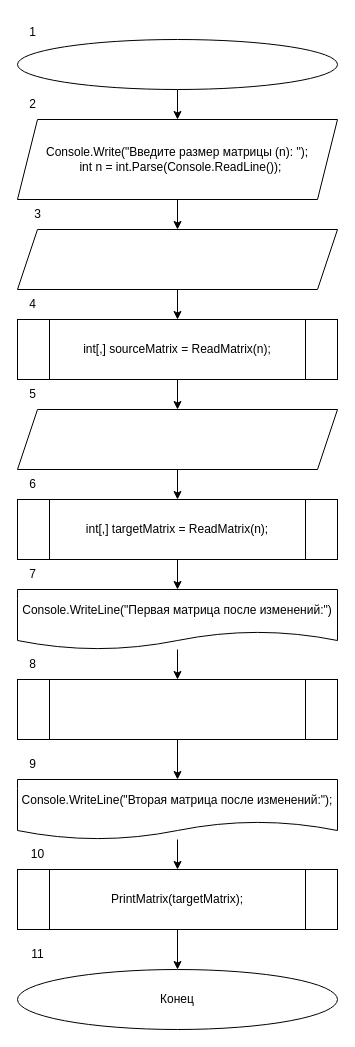
Image size: 355x1047. Some labels were removed from this diagram. Each missing label, with the box of its shape:
Console.WriteLine("Введите элементы второй матрицы:");: (16, 408, 338, 470)
Console.WriteLine("Введите элементы первой матрицы:");: (16, 228, 338, 290)
PrintMatrix(sourceMatrix);: (16, 678, 338, 740)
Начало: (16, 38, 338, 90)
